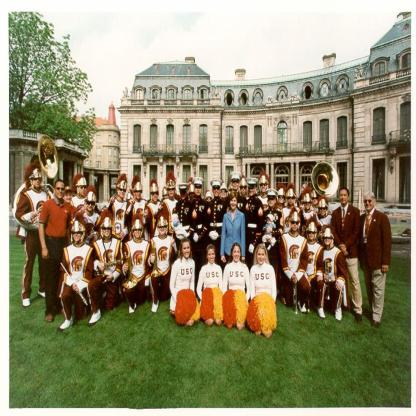face: (183, 242, 191, 259), (56, 185, 65, 200), (258, 249, 266, 265), (365, 197, 374, 211), (208, 249, 216, 264), (234, 247, 242, 262), (74, 230, 83, 242), (341, 192, 349, 205), (34, 177, 42, 188), (65, 192, 73, 203), (79, 185, 87, 196), (87, 201, 95, 212), (119, 187, 127, 198), (195, 185, 203, 196), (231, 198, 238, 210), (292, 220, 299, 232), (104, 227, 111, 238), (249, 186, 256, 197), (135, 190, 142, 200), (135, 228, 142, 238), (160, 226, 167, 236), (221, 189, 228, 199), (320, 206, 327, 216), (309, 231, 316, 241), (169, 187, 175, 198), (181, 189, 187, 200), (241, 185, 247, 196), (325, 236, 332, 245), (153, 192, 159, 202), (214, 187, 220, 197), (233, 181, 239, 191), (261, 183, 267, 193), (269, 197, 275, 207), (289, 196, 295, 205), (306, 201, 312, 209), (313, 197, 319, 204), (208, 197, 213, 205), (280, 196, 285, 204), (267, 219, 272, 225)
